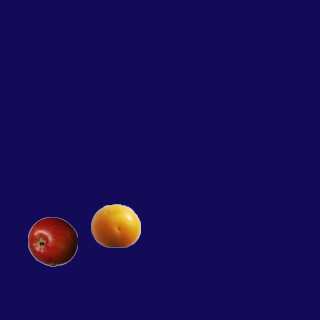Apple Braeburn: (27, 216, 77, 266)
Cherry Wax Yellow: (90, 200, 140, 250)
